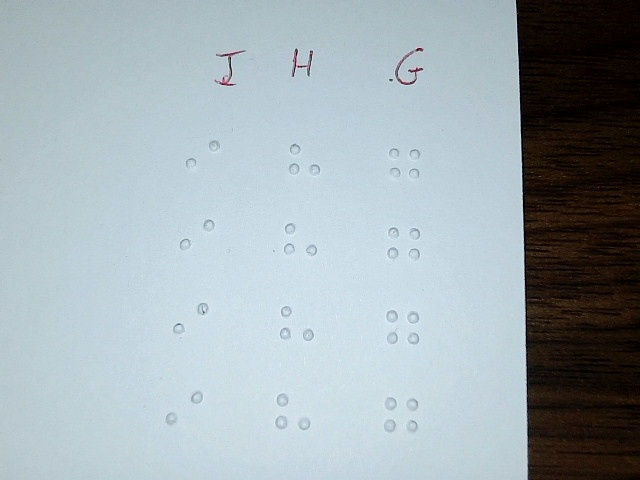G: (386, 138, 422, 198), (386, 217, 422, 277), (384, 300, 420, 360), (383, 387, 419, 447)
H: (286, 133, 322, 193), (283, 213, 319, 273), (277, 295, 313, 355), (275, 387, 311, 447)
I: (165, 379, 203, 439), (184, 129, 220, 189), (179, 209, 215, 269), (173, 291, 209, 351)
